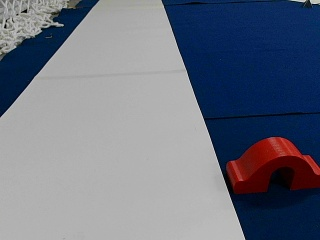bridge: (226, 136, 318, 189)
